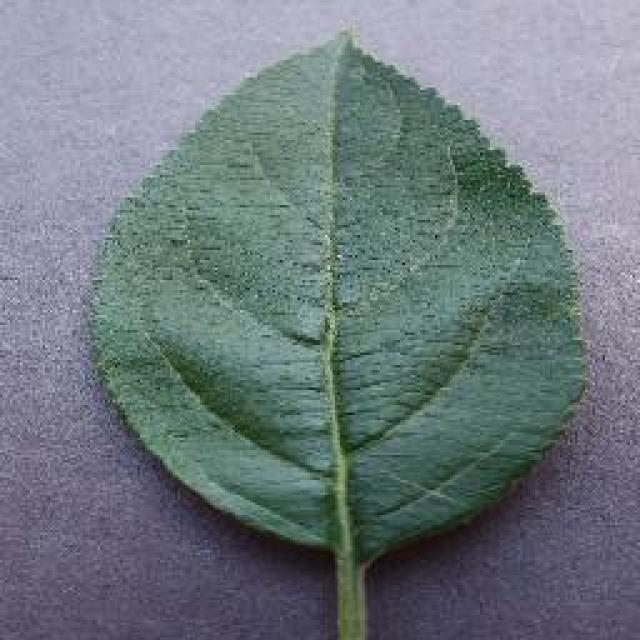apple scab disease: (82, 22, 592, 638)
